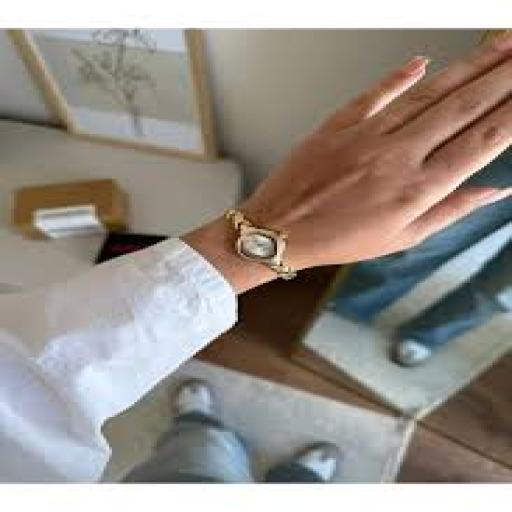KolSaati: (206, 196, 313, 298)
